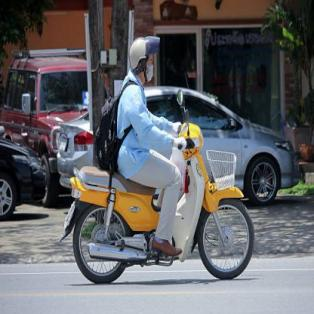Motocicleta: (64, 117, 255, 291)
